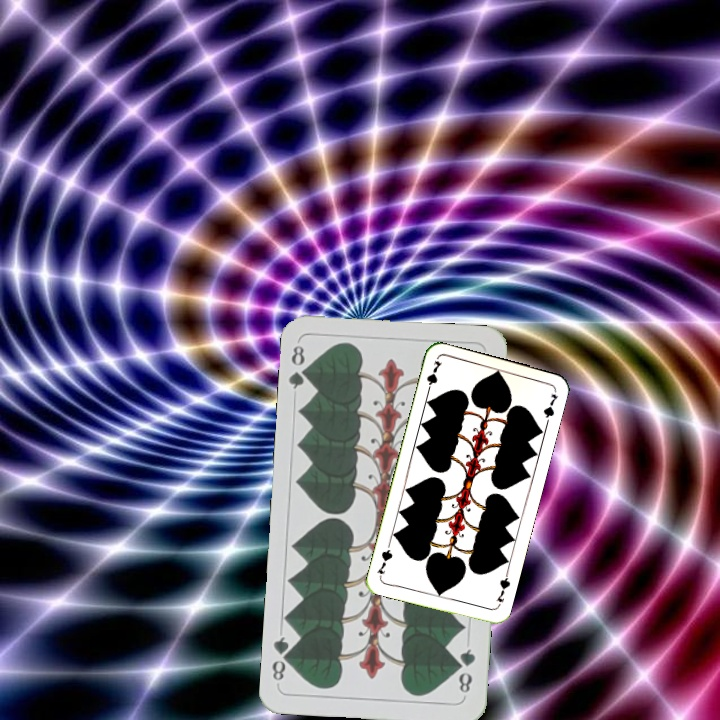G7: (423, 356, 444, 396), (492, 570, 513, 610)
G8: (285, 341, 313, 392), (453, 645, 478, 699)
